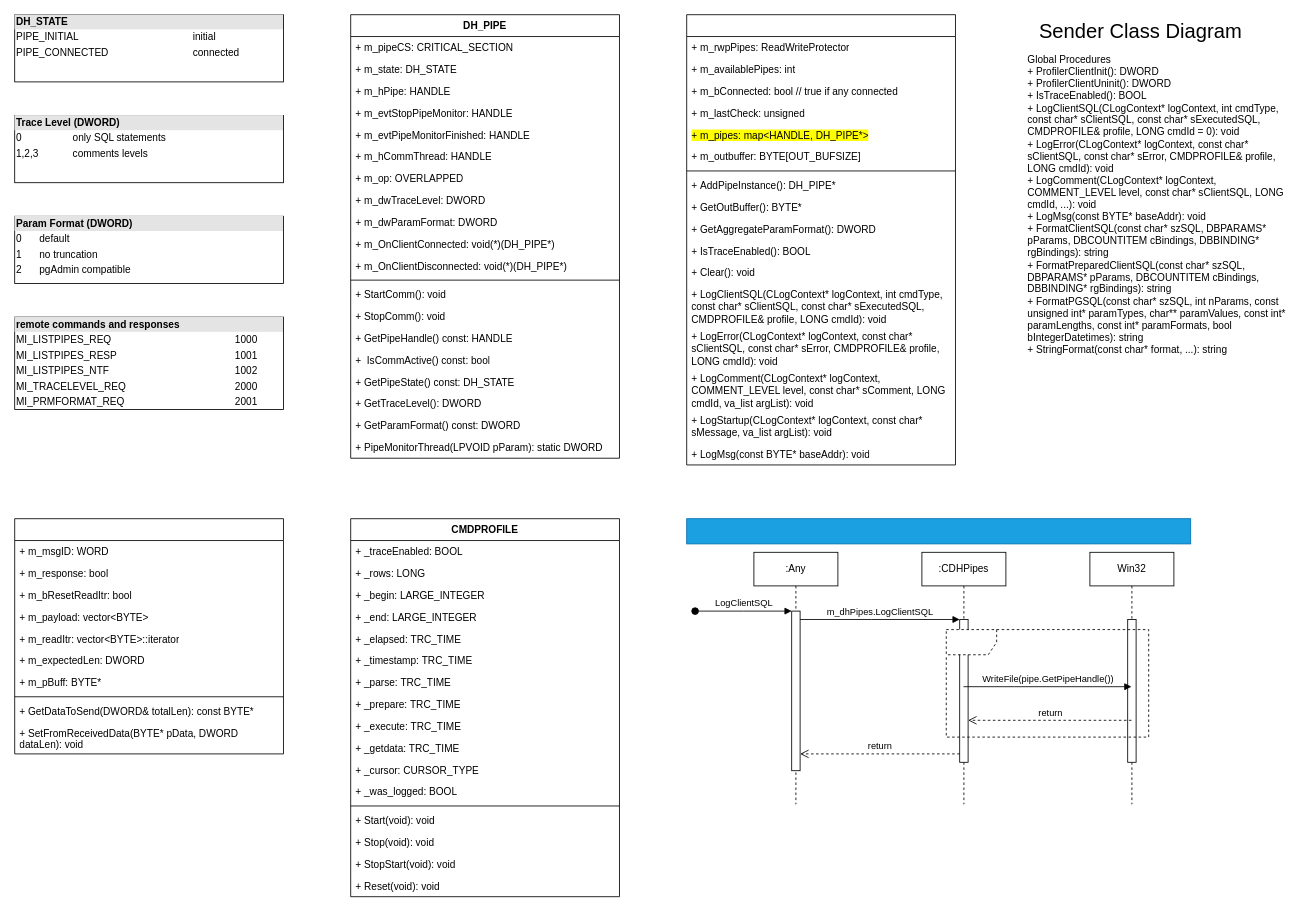
The diagram is 1306 pixels wide and 914 high, and some of its shapes have lost their labels. Each missing label, with the box of its shape:
CDHPipes: (686, 14, 956, 465)
Diagram 1: Sending a message to PGNProfiler: (686, 518, 1191, 544)
for_each(pipe:m_pipes): (945, 629, 1149, 737)
RemMsg: (14, 518, 284, 754)
